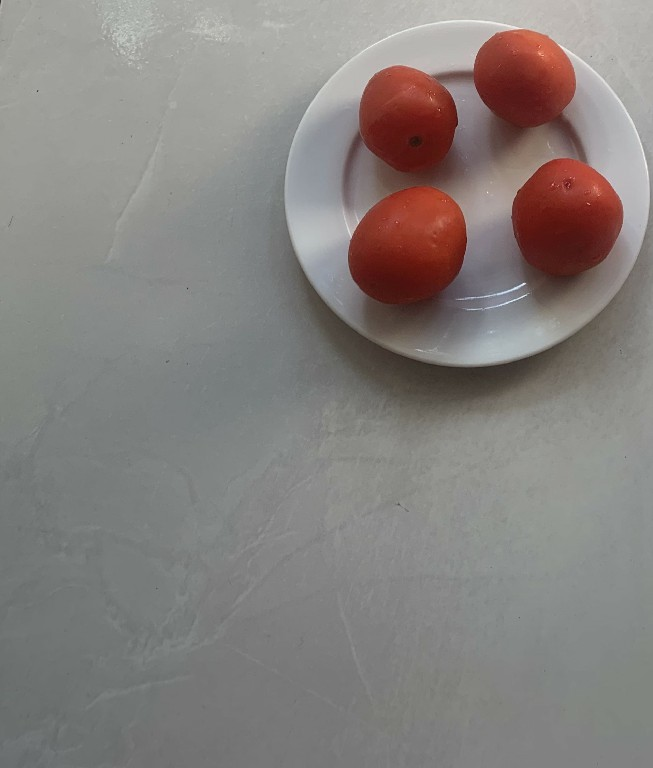OK: (345, 184, 458, 311), (512, 153, 622, 277), (472, 23, 576, 124), (354, 63, 458, 159)
